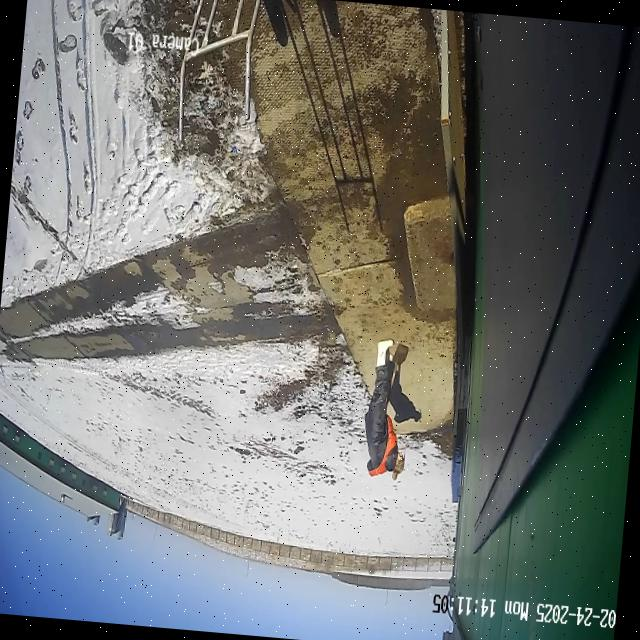Red uniform: (358, 335, 416, 482)
